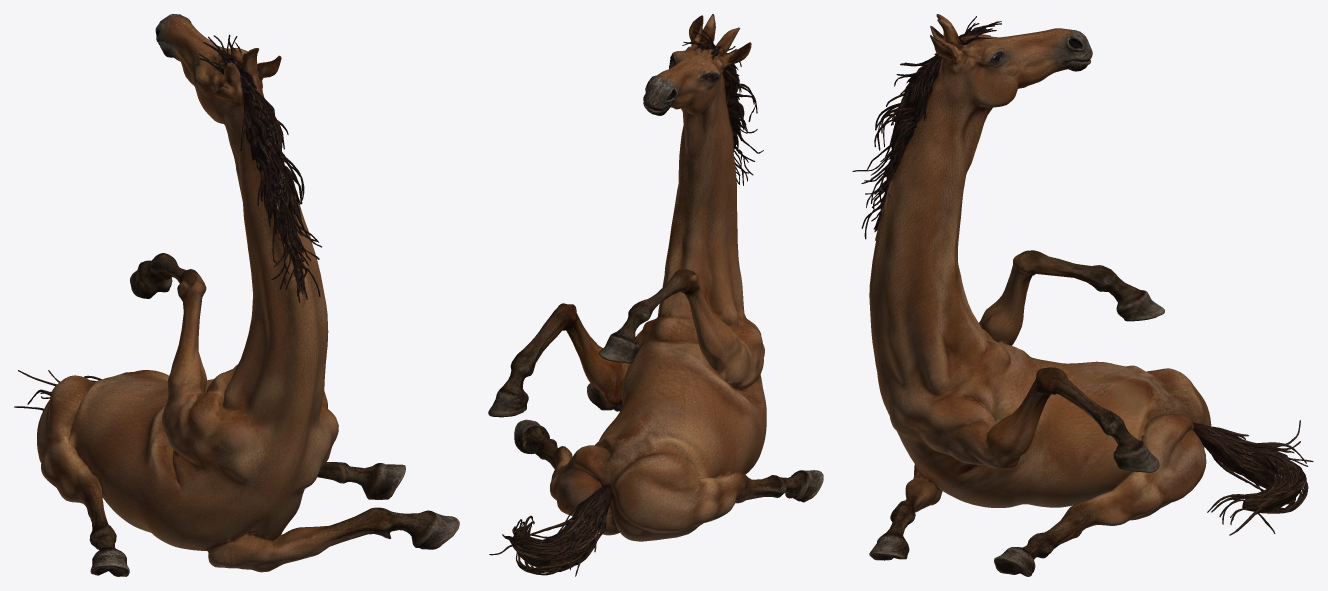
File: horse-rearing.glb
3 views of the same model, side by side, from view 1: azimuth 30°, elevation 25°; view 2: azimuth 150°, elevation 25°; view 3: azimuth 270°, elevation 25° (orthographic). The views are drawn at different scales.
Visible parts, largest first — view 1: tripo_node_2974e837-e167-43a3-baa6-bde04446ed48; view 2: tripo_node_2974e837-e167-43a3-baa6-bde04446ed48; view 3: tripo_node_2974e837-e167-43a3-baa6-bde04446ed48.
Part boxes in pixels (x1,y1,x2,y2): tripo_node_2974e837-e167-43a3-baa6-bde04446ed48: [14, 14, 459, 576]; tripo_node_2974e837-e167-43a3-baa6-bde04446ed48: [488, 14, 823, 576]; tripo_node_2974e837-e167-43a3-baa6-bde04446ed48: [852, 14, 1313, 576].
Size of the model in its own units: 0.6674 by 0.9996 by 0.8627.
Materials: 1 (1 with a texture image).
